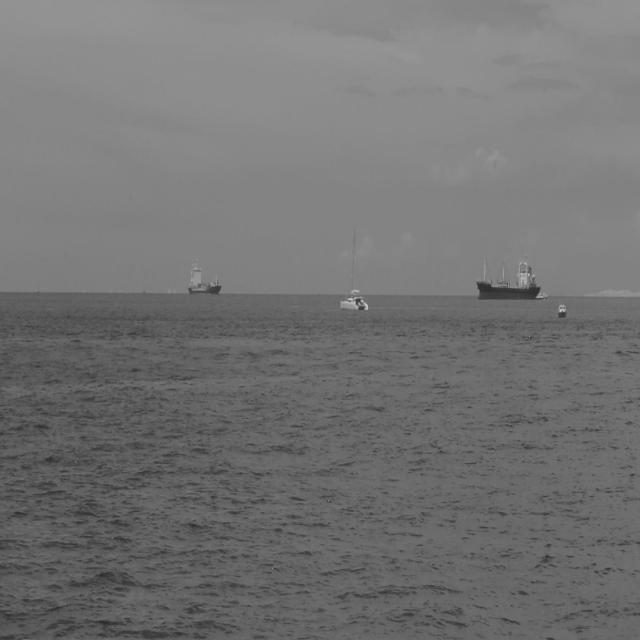ship: (474, 250, 542, 302), (338, 224, 370, 314), (186, 258, 223, 298), (555, 298, 568, 320)
